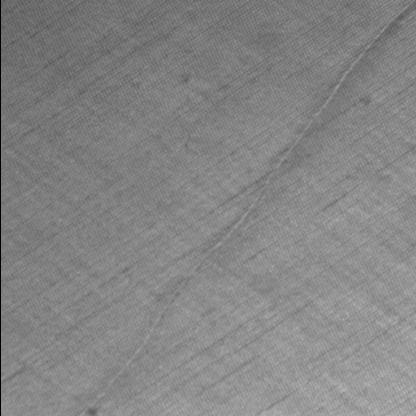objects: (72, 1, 415, 416)
